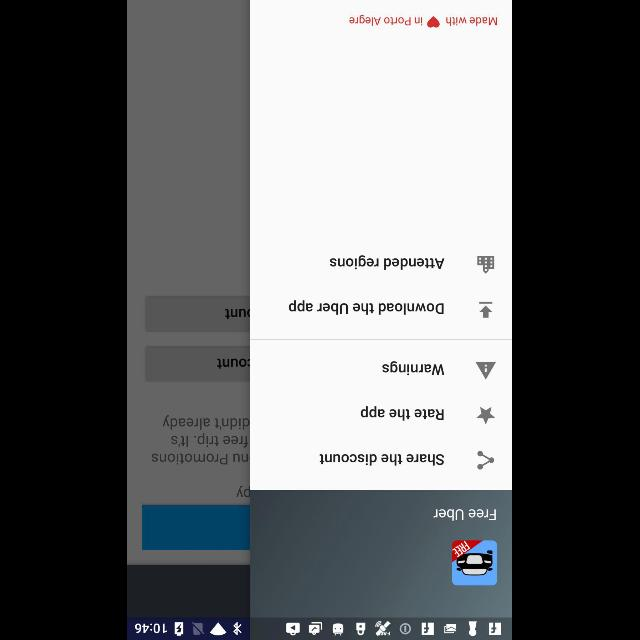icon: (476, 362, 496, 380), (477, 406, 495, 424), (478, 450, 494, 470), (480, 302, 492, 318), (428, 16, 440, 28)
image: (452, 540, 498, 586), (478, 256, 494, 274)
panel: (252, 0, 512, 616)
text: (290, 299, 444, 315), (330, 254, 446, 270), (320, 454, 444, 466), (361, 406, 445, 420), (382, 361, 446, 375), (351, 16, 424, 27), (434, 509, 498, 521), (447, 18, 498, 27)
uppertaskbar: (128, 617, 512, 639)
